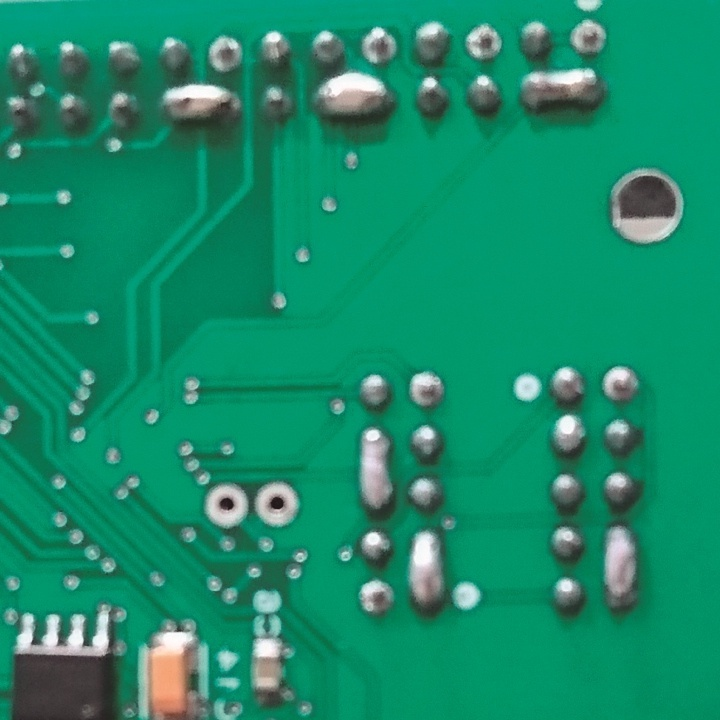F: (252, 478, 303, 531), (202, 480, 251, 532), (357, 24, 399, 69), (462, 20, 503, 63), (570, 17, 610, 58), (207, 34, 244, 78), (600, 363, 640, 403), (355, 577, 393, 618), (409, 369, 446, 410)
P: (355, 423, 399, 514), (520, 68, 602, 116), (407, 525, 448, 618), (157, 81, 241, 126), (601, 521, 640, 613), (317, 73, 392, 120)
